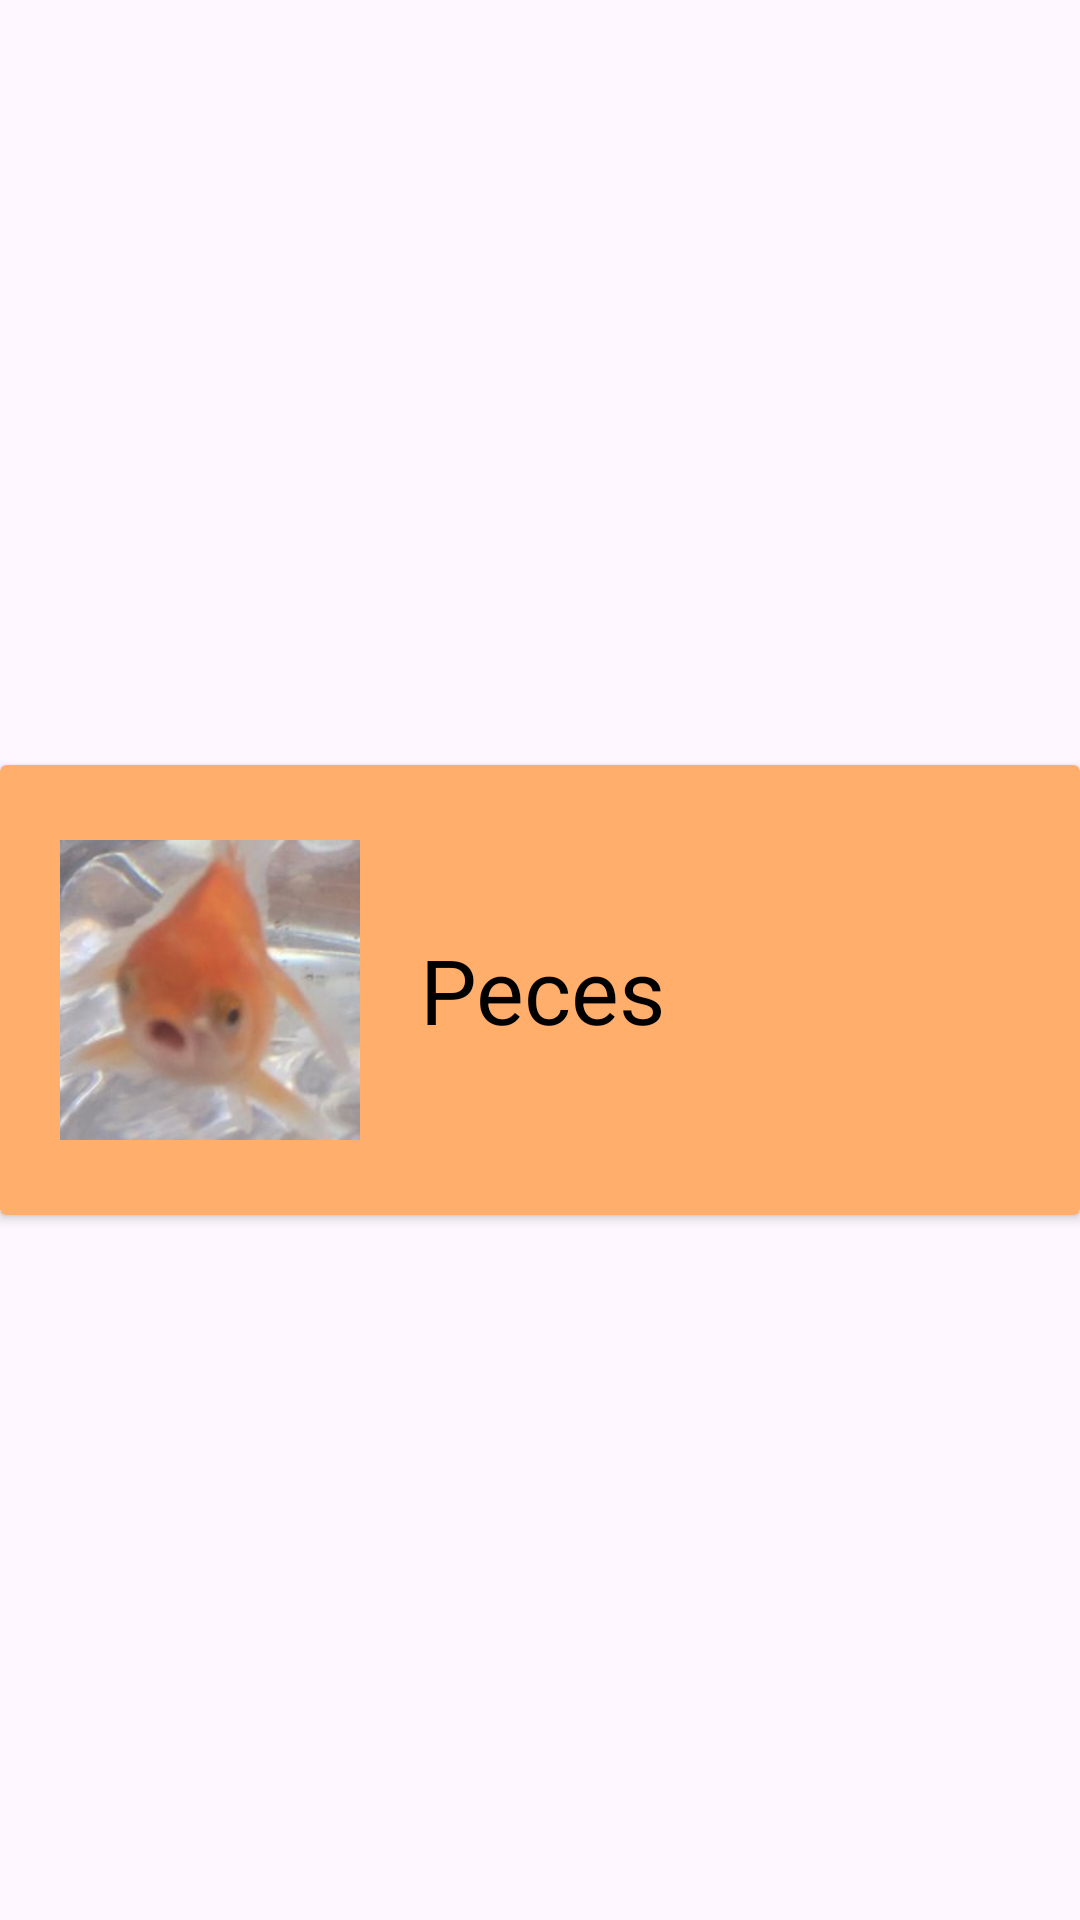

Named icons in this screenshot (1080w x 1920h) and their centers, point (x, y):
pez: point (210, 990)
